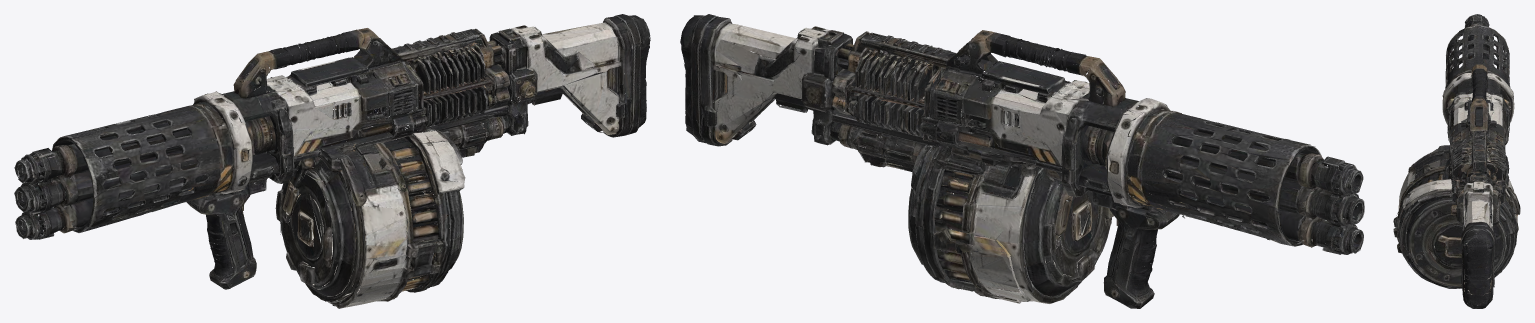
Rendered from nx-tormenta.glb.
3 views of the same model, side by side, from view 1: azimuth 30°, elevation 25°; view 2: azimuth 150°, elevation 25°; view 3: azimuth 270°, elevation 25° (orthographic). The views are drawn at different scales.
Parts seen in each view (by area): view 1: Mesh_0; view 2: Mesh_0; view 3: Mesh_0.
Boxes of the visible parts, left/top/right/bottom form: Mesh_0: left=14, top=14, right=650, bottom=308; Mesh_0: left=680, top=14, right=1364, bottom=308; Mesh_0: left=1393, top=14, right=1520, bottom=308.
Size of the model in its own units: 1.91 by 0.7341 by 0.4728.
Materials: 1 (1 with a texture image).
